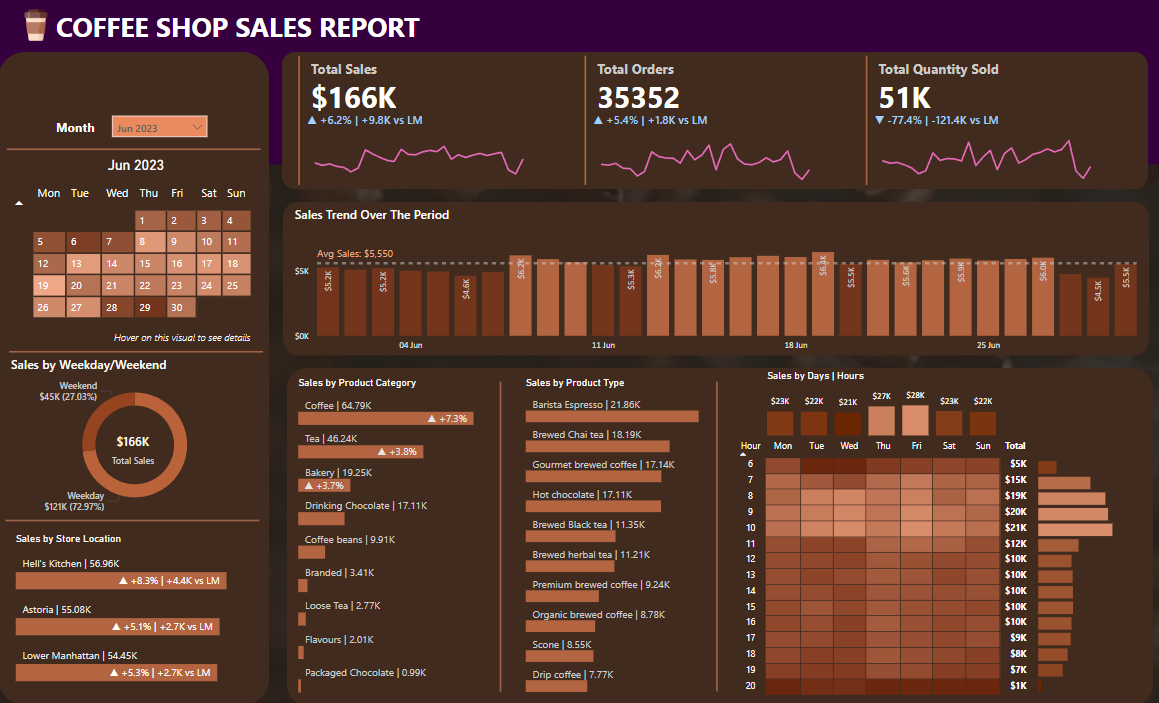

This screenshot's page, from the dashboard's own definition file:
{"tool":"powerbi","page":{"name":"Page 1","canvas":[1400,850],"ordinal":0},"visuals":[{"type":"shape","box":[0,0,1400.3,200],"z":0},{"type":"shape","box":[0,64.5,325.7,785],"z":1000},{"type":"shape","box":[340.7,64.5,1040.1,165.1],"z":2000},{"type":"textbox","box":[64.6,7.9,473.2,56.7],"z":3000},{"type":"cardVisual","fields":{"Data":["Transactions.Total Sales"]},"box":[355.7,64.5,300.2,165.1],"z":4000,"group":"g1"},{"type":"cardVisual","fields":{"Data":["Transactions.Total Orders"]},"box":[699.4,64.5,300.2,165.1],"z":4000,"group":"g2"},{"type":"cardVisual","fields":{"Data":["Transactions.Total uantity Sold"]},"box":[1037.1,64.5,300.2,165.1],"z":4000,"group":"g3"},{"type":"slicer","fields":{"Values":["Date Table.Month Year"]},"box":[131.8,137.1,123.9,35.6],"z":4000},{"type":"group","id":"g1","title":"Group 1","box":[355.7,64.5,300.2,165.1],"z":5000},{"type":"lineChart","fields":{"Y":["Transactions.Total Sales"],"Category":["Date Table.Date.Variation.Date Hierarchy.Year","Date Table.Date.Variation.Date Hierarchy.Quarter","Date Table.Date.Variation.Date Hierarchy.Month","Date Table.Date.Variation.Date Hierarchy.Day"]},"box":[366.2,136.5,279.2,88.6],"z":5001,"group":"g1"},{"type":"lineChart","fields":{"Category":["Date Table.Date.Variation.Date Hierarchy.Year","Date Table.Date.Variation.Date Hierarchy.Quarter","Date Table.Date.Variation.Date Hierarchy.Month","Date Table.Date.Variation.Date Hierarchy.Day"],"Y":["Transactions.Total Orders"]},"box":[709.9,136.5,279.2,88.6],"z":5001,"group":"g2"},{"type":"lineChart","fields":{"Category":["Date Table.Date.Variation.Date Hierarchy.Year","Date Table.Date.Variation.Date Hierarchy.Quarter","Date Table.Date.Variation.Date Hierarchy.Month","Date Table.Date.Variation.Date Hierarchy.Day"],"Y":["Transactions.Total Quantity Sold"]},"box":[1047.6,136.5,279.2,88.6],"z":5001,"group":"g3"},{"type":"group","id":"g2","title":"Group 1","box":[699.4,64.5,300.2,165.1],"z":6000},{"type":"group","id":"g3","title":"Group 1","box":[1037.1,64.5,300.2,165.1],"z":7000},{"type":"pivotTable","fields":{"Rows":["Date Table.Week Number"],"Columns":["Date Table.Day Name"],"Values":["Min(Date Table.Day Number)"]},"box":[10.5,216.1,304.7,199.6],"z":8000},{"type":"card","fields":{"Values":["Min(Date Table.Month Year)"]},"box":[108.1,181.6,115.6,39],"z":9000},{"type":"card","fields":{"Values":["Transactions.Foot Note"]},"box":[96.1,385.7,250.6,48],"z":10000},{"type":"shape","box":[13.5,403.7,304.7,42],"z":11000},{"type":"shape","box":[10.5,156.1,304.7,51],"z":12000},{"type":"donutChart","title":"Sales by Weekday/Weekend","fields":{"Category":["Date Table.Weekday/Weekend"],"Y":["Transactions.Total Sales"]},"box":[10.5,429.2,307.7,195.1],"z":13000},{"type":"card","fields":{"Values":["Transactions.Total Sales"]},"box":[96.1,510.3,132.1,63],"z":14000},{"type":"shape","box":[9,601.8,304.7,51],"z":15000},{"type":"clusteredBarChart","title":"Sales by Store Location","fields":{"Category":["Transactions.store_location"],"Y":["Transactions.placeholder","Transactions.Total Sales"]},"box":[16.5,642.4,289.7,186.1],"z":16000},{"type":"shape","box":[342.2,244.6,1040.1,185],"z":17000},{"type":"columnChart","title":"Sales Trend Over The Period","fields":{"Category":["Transactions.transaction_date"],"Y":["Transactions.Total Sales"]},"box":[351.2,249.1,1022.1,184.6],"z":18000},{"type":"shape","box":[346.7,444.3,1040.1,405.2],"z":19000},{"type":"clusteredBarChart","title":"Sales by Product Category","fields":{"Y":["Transactions.placeholder","Transactions.Total Sales"],"Category":["Transactions.product_category"]},"box":[355.7,454.8,250.6,385],"z":20000},{"type":"shape","box":[577.8,460.8,51,372.2],"z":21000},{"type":"clusteredBarChart","title":"Sales by Product Type","fields":{"Y":["Transactions.placeholder","Transactions.Total Sales"],"Category":["Transactions.product_type"]},"box":[628.9,454.8,250.6,384.2],"z":22000},{"type":"pivotTable","fields":{"Rows":["Transactions.Hour"],"Columns":["Date Table.Day Name"],"Values":["Transactions.Total Sales"]},"box":[880.6,524.7,366.5,320],"z":23000},{"type":"shape","box":[837.1,461.4,51.4,371.7],"z":24000},{"type":"barChart","fields":{"Y":["Transactions.Total Sales"],"Category":["Transactions.Hour"]},"box":[1244.4,543.1,135.8,295.3],"z":25000},{"type":"columnChart","title":"Sales by Days | Hours","fields":{"Category":["Date Table.Day Name"],"Y":["Transactions.Total Sales"]},"box":[918.8,445.6,286.1,85.7],"z":26000},{"type":"textbox","box":[64.6,139.7,72.5,34.3],"z":27000},{"type":"image","box":[21.1,9.2,48.8,47.5],"z":28000}]}

Visuals, with their boxes in screenshot pixels (x1, y1, x2, y2), scaled from the page's 1400x850 canvas onto the 1159x703 screenshot:
shape: detection(0, 0, 1158, 165)
shape: detection(0, 53, 270, 702)
shape: detection(282, 53, 1143, 190)
textbox: detection(53, 7, 445, 53)
cardVisual - Transactions.Total Sales: detection(294, 53, 543, 190)
cardVisual - Transactions.Total Orders: detection(579, 53, 828, 190)
cardVisual - Transactions.Total uantity Sold: detection(859, 53, 1107, 190)
slicer - Date Table.Month Year: detection(109, 113, 212, 143)
"Group 1" group: detection(294, 53, 543, 190)
lineChart - Transactions.Total Sales x Date Table.Date.Variation.Date Hierarchy.Year: detection(303, 113, 534, 186)
lineChart - Date Table.Date.Variation.Date Hierarchy.Year x Date Table.Date.Variation.Date Hierarchy.Quarter: detection(588, 113, 819, 186)
lineChart - Date Table.Date.Variation.Date Hierarchy.Year x Date Table.Date.Variation.Date Hierarchy.Quarter: detection(867, 113, 1098, 186)
"Group 1" group: detection(579, 53, 828, 190)
"Group 1" group: detection(859, 53, 1107, 190)
pivotTable - Date Table.Week Number x Date Table.Day Name: detection(9, 179, 261, 344)
card - Min(Date Table.Month Year): detection(89, 150, 185, 182)
card - Transactions.Foot Note: detection(80, 319, 287, 359)
shape: detection(11, 334, 263, 369)
shape: detection(9, 129, 261, 171)
"Sales by Weekday/Weekend" donutChart: detection(9, 355, 263, 516)
card - Transactions.Total Sales: detection(80, 422, 189, 474)
shape: detection(7, 498, 260, 540)
"Sales by Store Location" clusteredBarChart: detection(14, 531, 253, 685)
shape: detection(283, 202, 1144, 355)
"Sales Trend Over The Period" columnChart: detection(291, 206, 1137, 359)
shape: detection(287, 367, 1148, 702)
"Sales by Product Category" clusteredBarChart: detection(294, 376, 502, 695)
shape: detection(478, 381, 521, 689)
"Sales by Product Type" clusteredBarChart: detection(521, 376, 728, 694)
pivotTable - Transactions.Hour x Date Table.Day Name: detection(729, 434, 1032, 699)
shape: detection(693, 382, 736, 689)
barChart - Transactions.Total Sales x Transactions.Hour: detection(1030, 449, 1143, 693)
"Sales by Days | Hours" columnChart: detection(761, 369, 997, 439)
textbox: detection(53, 116, 113, 144)
image: detection(17, 8, 58, 47)
